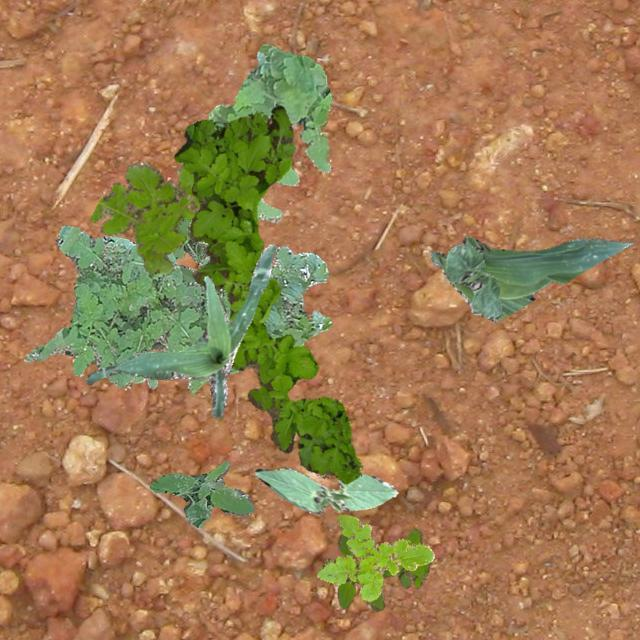crop: (84, 242, 274, 418), (429, 236, 631, 320), (254, 467, 396, 512), (446, 244, 502, 318), (170, 216, 210, 282)
weed: (174, 105, 362, 482), (22, 224, 330, 394), (197, 44, 331, 244), (89, 160, 200, 274), (316, 514, 432, 600), (336, 528, 431, 610), (148, 459, 254, 526), (132, 350, 156, 388)
